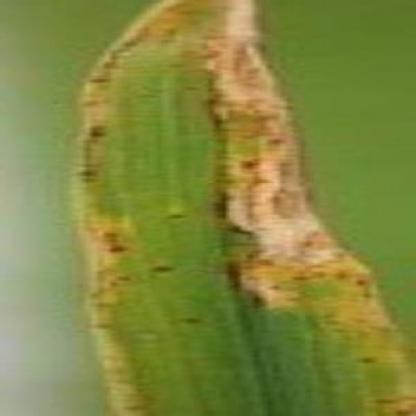Blight: (181, 1, 407, 335)
